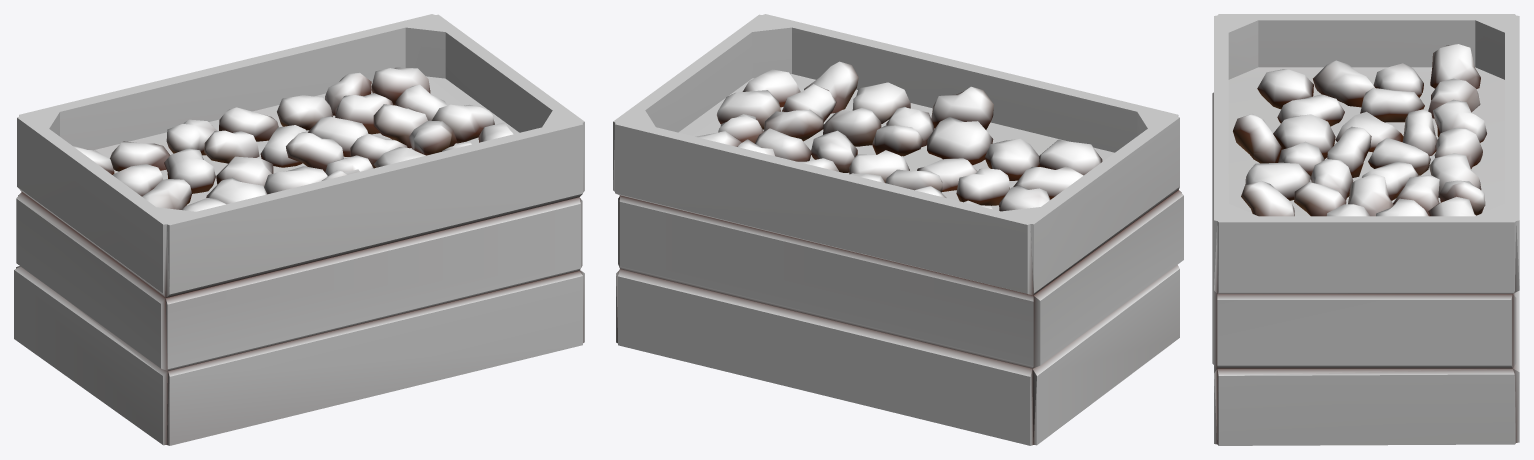
The model's file is sb_obj_indoor015_Vegetables03c.fbx.
The picture shows the model from 3 angles, left to right: view 1: azimuth 30°, elevation 25°; view 2: azimuth 150°, elevation 25°; view 3: azimuth 270°, elevation 25°; orthographic projection.
Parts seen in each view (by area): view 1: sb_obj_indoor015_Vegetables03c; view 2: sb_obj_indoor015_Vegetables03c; view 3: sb_obj_indoor015_Vegetables03c.
Boxes of the visible parts, bbox=[...] form: sb_obj_indoor015_Vegetables03c: bbox=[14, 14, 584, 445]; sb_obj_indoor015_Vegetables03c: bbox=[613, 14, 1183, 445]; sb_obj_indoor015_Vegetables03c: bbox=[1212, 14, 1519, 445].
Size of the model in its own units: 1.01 by 0.5 by 0.6233.
